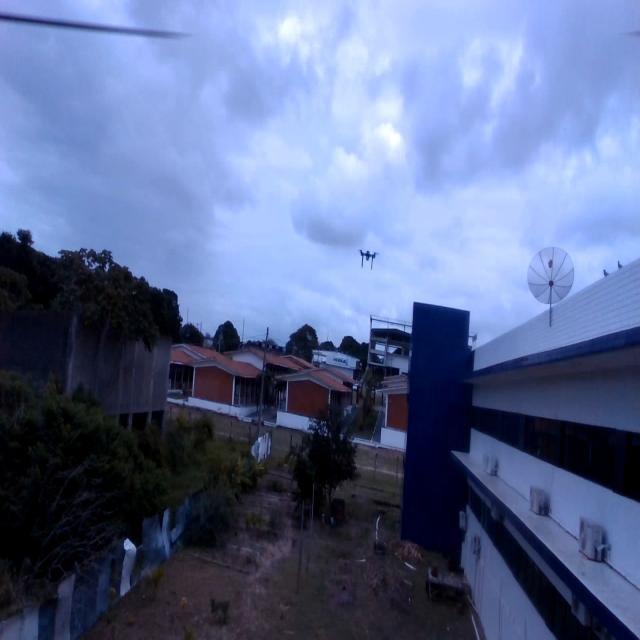-uav-: (355, 240, 382, 277)
